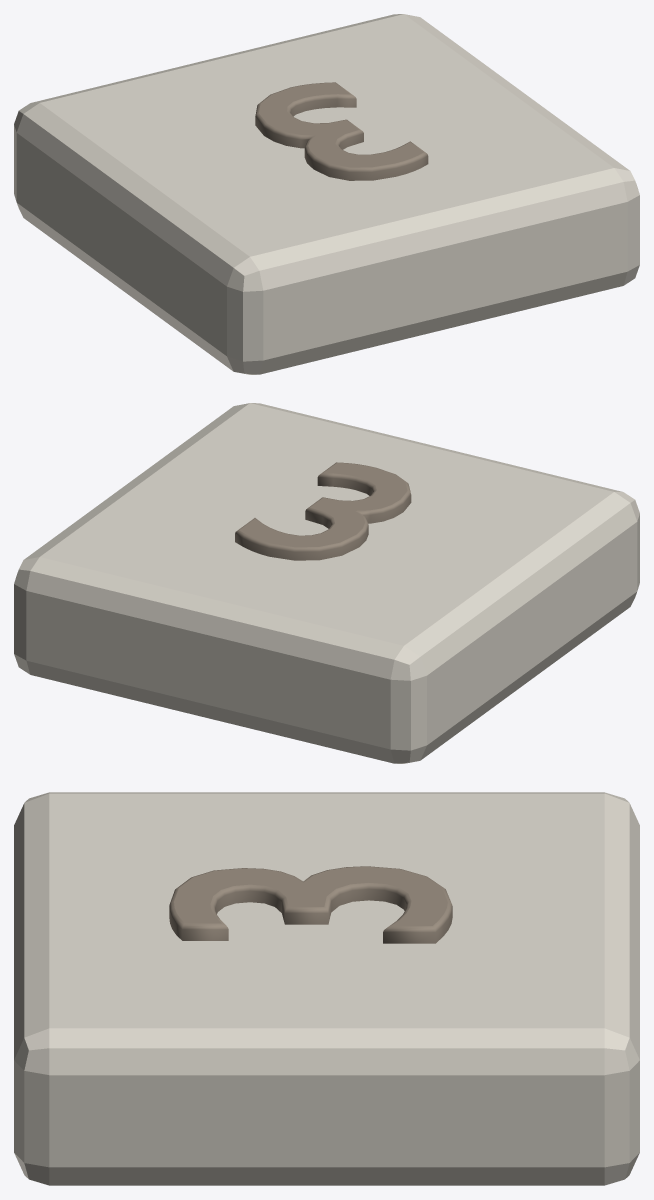
The model's file is Tile_3.fbx.
The picture shows the model from 3 angles, top to bottom: view 1: azimuth 30°, elevation 25°; view 2: azimuth 150°, elevation 25°; view 3: azimuth 270°, elevation 25°; orthographic projection. The views are drawn at different scales.
Visible parts, largest first — view 1: Tile_3; view 2: Tile_3; view 3: Tile_3.
Part boxes in pixels (x1=…): Tile_3: x1=14, y1=14, x2=639, y2=374; Tile_3: x1=14, y1=403, x2=639, y2=763; Tile_3: x1=14, y1=792, x2=639, y2=1185.
Bounding box in the file's own units: 80 × 24.2 × 80.
